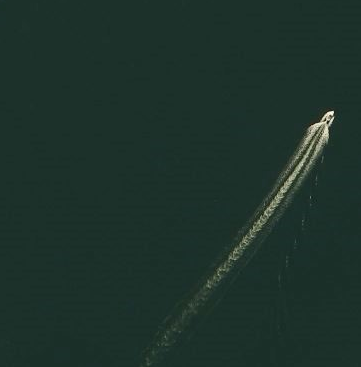ship: (322, 108, 336, 128)
